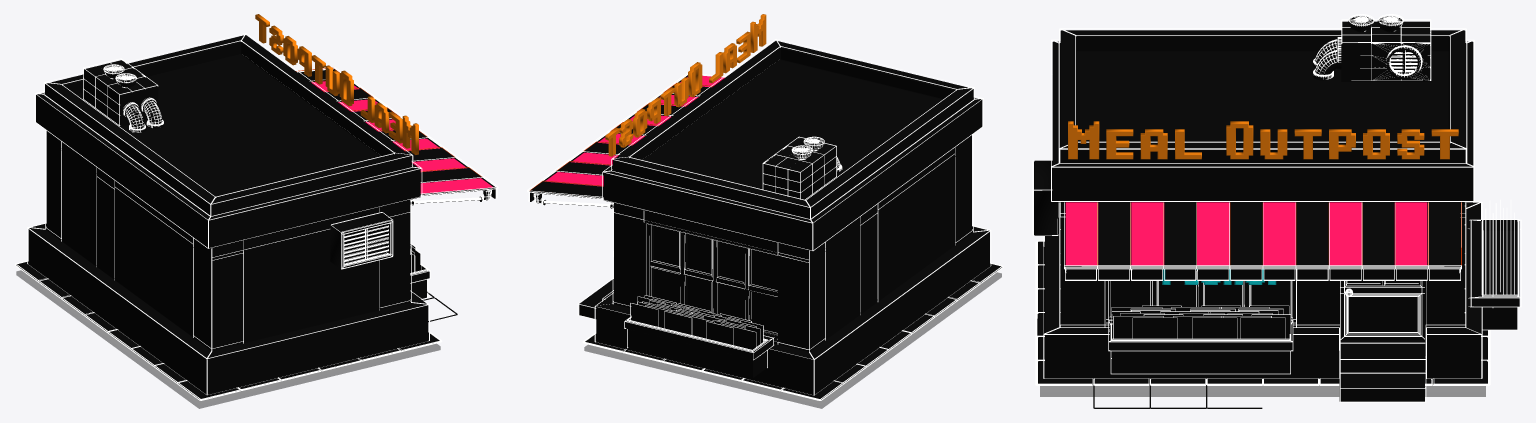
The model's file is buildingmodel-meal-outpost-not-pickup.gltf.
3 renders of one model, left to right at view 1: azimuth 30°, elevation 25°; view 2: azimuth 150°, elevation 25°; view 3: azimuth 270°, elevation 25°, orthographic. The views are drawn at different scales.
Visible parts, largest first — view 1: cartoon_restaurant_OBJ, cartoon_restaurant_OBJ.001, Text.004, Plane; view 2: cartoon_restaurant_OBJ, cartoon_restaurant_OBJ.001, cartoon_restaurant_OBJ.003, Text.004, Plane; view 3: cartoon_restaurant_OBJ, cartoon_restaurant_OBJ.001, Text.004, Plane, cartoon_restaurant_OBJ.003.
Boxes of the visible parts, x1=… form: cartoon_restaurant_OBJ: x1=16, y1=35, x2=495, y2=399; cartoon_restaurant_OBJ.001: x1=14, y1=33, x2=498, y2=400; Text.004: x1=255, y1=14, x2=418, y2=154; Plane: x1=16, y1=270, x2=440, y2=408; cartoon_restaurant_OBJ: x1=529, y1=41, x2=1001, y2=399; cartoon_restaurant_OBJ.001: x1=527, y1=39, x2=1003, y2=400; cartoon_restaurant_OBJ.003: x1=654, y1=226, x2=777, y2=332; Text.004: x1=605, y1=14, x2=766, y2=156; Plane: x1=584, y1=272, x2=1001, y2=408; cartoon_restaurant_OBJ: x1=1034, y1=16, x2=1519, y2=408; cartoon_restaurant_OBJ.001: x1=1032, y1=14, x2=1521, y2=402; Text.004: x1=1068, y1=121, x2=1458, y2=159; Plane: x1=1040, y1=380, x2=1485, y2=396; cartoon_restaurant_OBJ.003: x1=1111, y1=272, x2=1290, y2=313.
Bounding box in the file's own units: 56.96 × 38.7 × 63.83.
